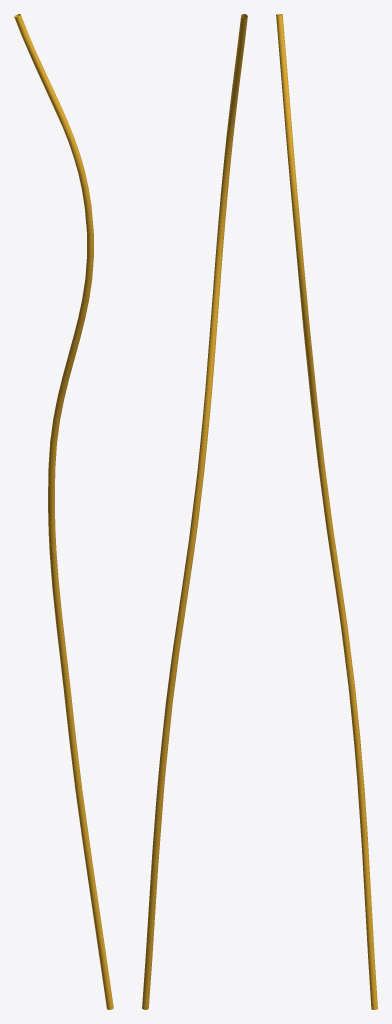
File: nervoso-posterior-branch-of-obturator-nerve-l.glb
The picture shows the model from 3 angles, left to right: view 1: azimuth 30°, elevation 25°; view 2: azimuth 150°, elevation 25°; view 3: azimuth 330°, elevation 25°; orthographic projection. The views are drawn at different scales.
Parts seen in each view (by area): view 1: Posterior branch of obturator nerve.l; view 2: Posterior branch of obturator nerve.l; view 3: Posterior branch of obturator nerve.l.
Boxes of the visible parts, x1=… form: Posterior branch of obturator nerve.l: x1=14, y1=14, x2=113, y2=1009; Posterior branch of obturator nerve.l: x1=142, y1=14, x2=247, y2=1009; Posterior branch of obturator nerve.l: x1=276, y1=14, x2=377, y2=1009.
Size of the model in its own units: 0.0166 by 0.159 by 0.0121.
